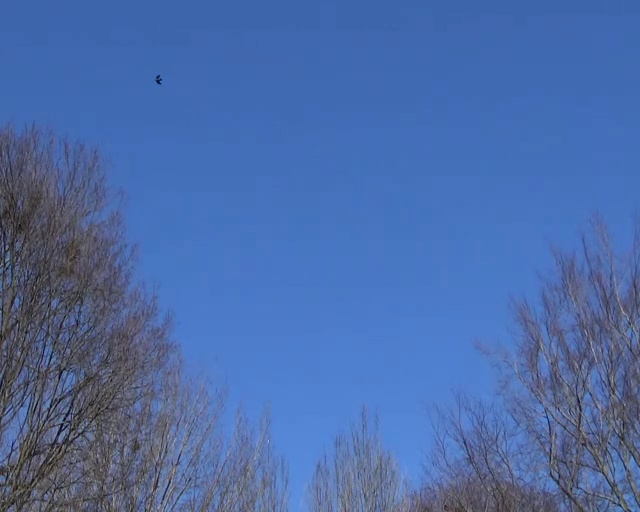BIRD: (155, 74, 162, 85)
